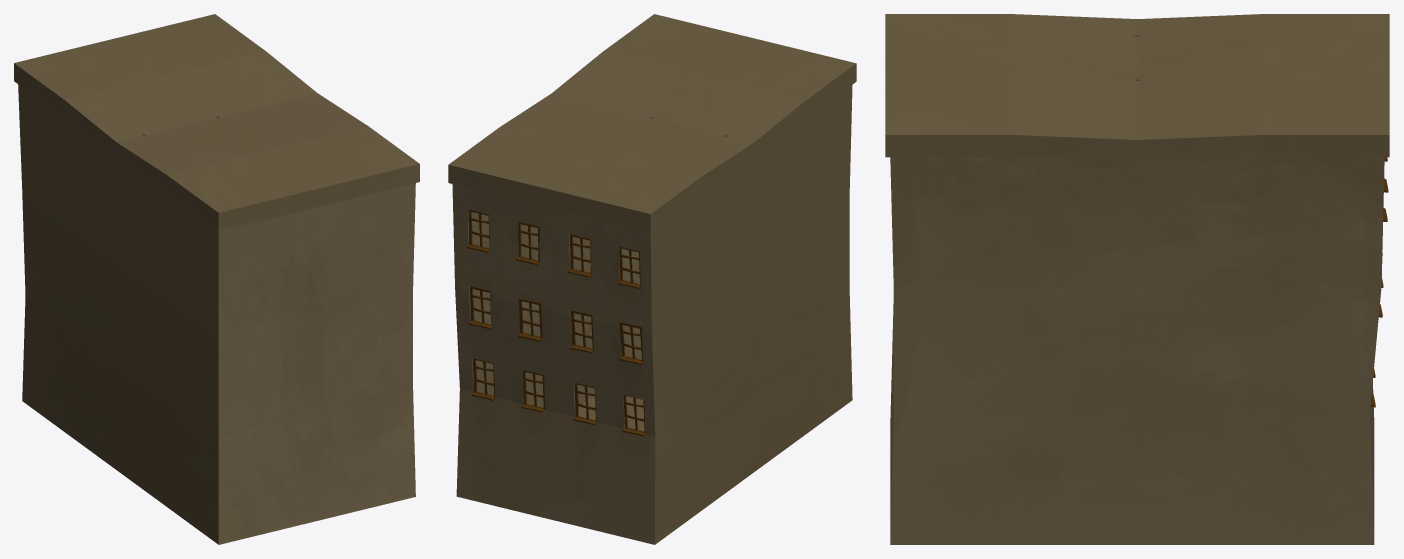
File: Zavod-corpus-2.fbx
3 views of the same model, side by side, from view 1: azimuth 30°, elevation 25°; view 2: azimuth 150°, elevation 25°; view 3: azimuth 270°, elevation 25° (orthographic). The views are drawn at different scales.
Parts seen in each view (by area): view 1: Cube.093; view 2: Cube.093; view 3: Cube.093.
Part boxes in pixels (left/top/right/bottom): Cube.093: left=14, top=14, right=419, bottom=544; Cube.093: left=448, top=14, right=856, bottom=544; Cube.093: left=885, top=14, right=1389, bottom=544.
Bounding box in the file's own units: 430 × 682 × 758.
